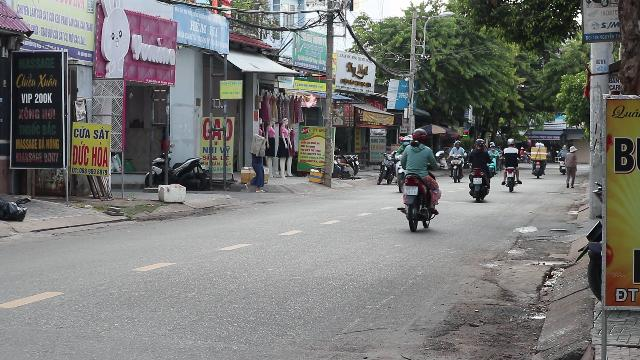helmet: (410, 128, 426, 144)
licenseplate: (404, 186, 418, 194)
motorcyclist: (394, 127, 442, 231)
